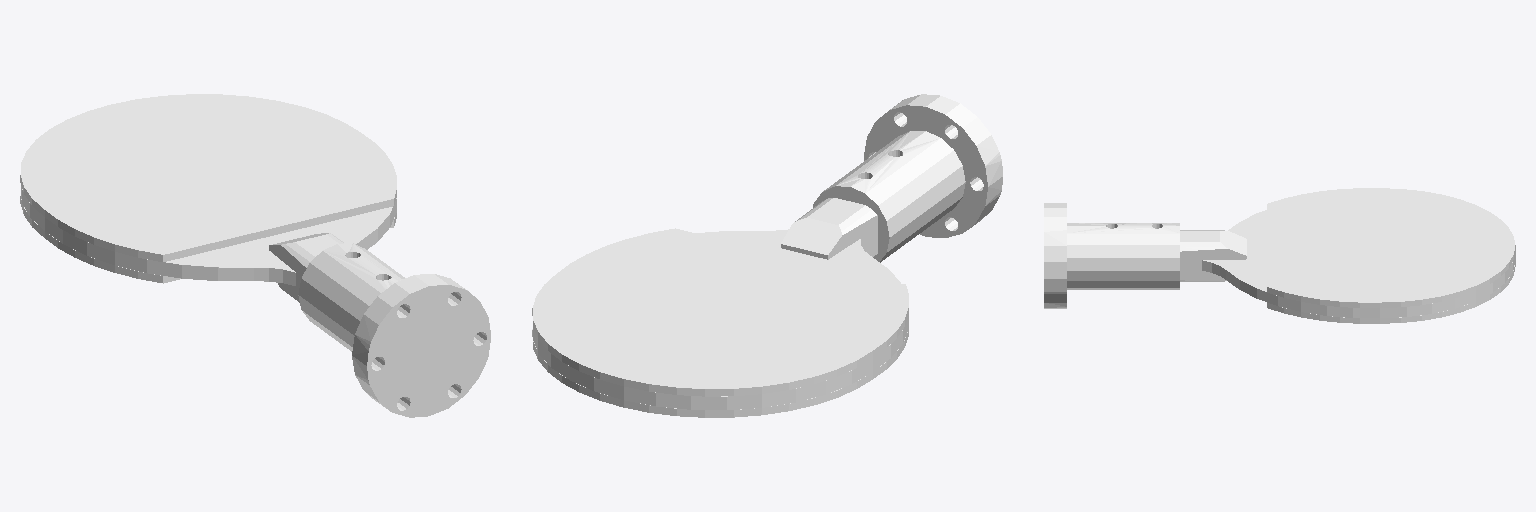
The robot description file, URDF, robot "ping_pong_paddle.SLDASM":
<?xml version="1.0" encoding="utf-8"?>
<!-- This URDF was automatically created by SolidWorks to URDF Exporter! Originally created by [author] ([email redacted]) 
     Commit Version: 1.6.0-1-g15f4949  Build Version: 1.6.7594.29634
     For more information, please see http://wiki.ros.org/sw_urdf_exporter -->
<robot
  name="ping_pong_paddle.SLDASM">
  <link
    name="base_link">
    <inertial>
      <origin
        xyz="0 3.175 189.071"
        rpy="0 0 0" />
      <mass
        value="0.20907" />
      <inertia
        ixx="0.00098969"
        ixy="-7.2913E-10"
        ixz="2.5452E-07"
        iyy="0.0012047"
        iyz="7.4742E-07"
        izz="0.00023156" />
    </inertial>
    <visual>
      <origin
        xyz="0 0 0"
        rpy="0 0 0" />
      <geometry>
        <mesh
          filename="package://ping_pong_paddle.SLDASM/meshes/base_link.STL" />
      </geometry>
      <material
        name="">
        <color
          rgba="1 1 1 1" />
      </material>
    </visual>
    <collision>
      <origin
        xyz="0 0 0"
        rpy="0 0 0" />
      <geometry>
        <mesh
          filename="package://ping_pong_paddle.SLDASM/meshes/base_link.STL" />
      </geometry>
    </collision>
  </link>
</robot>

--- Facts derived from the render (not from the file) ---
3 views of the same robot in one strip: view 1: azimuth 30°, elevation 25°; view 2: azimuth 150°, elevation 25°; view 3: azimuth 270°, elevation 25° (orthographic).
Robot: ping_pong_paddle.SLDASM — 1 links, 0 joints (none); root link base_link; default pose: every joint at zero.
Links seen in each view (by area): view 1: base_link; view 2: base_link; view 3: base_link.
Link boxes in pixels (bbox=[...]): base_link: bbox=[20, 94, 490, 417]; base_link: bbox=[532, 94, 1002, 417]; base_link: bbox=[1044, 188, 1515, 323].
Size in the robot's own frame: 0.1526 by 0.2653 by 0.06 metres.
1 mesh visuals loaded from 1 distinct referenced files (1 binary STL).